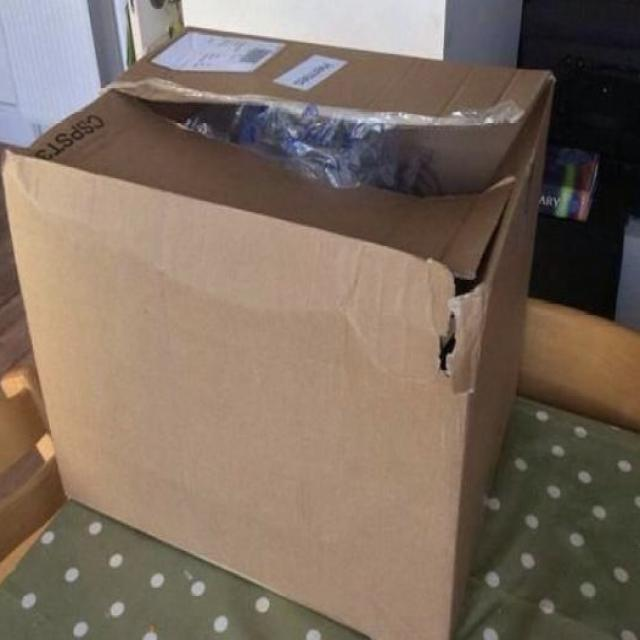hole: (428, 268, 486, 405)
